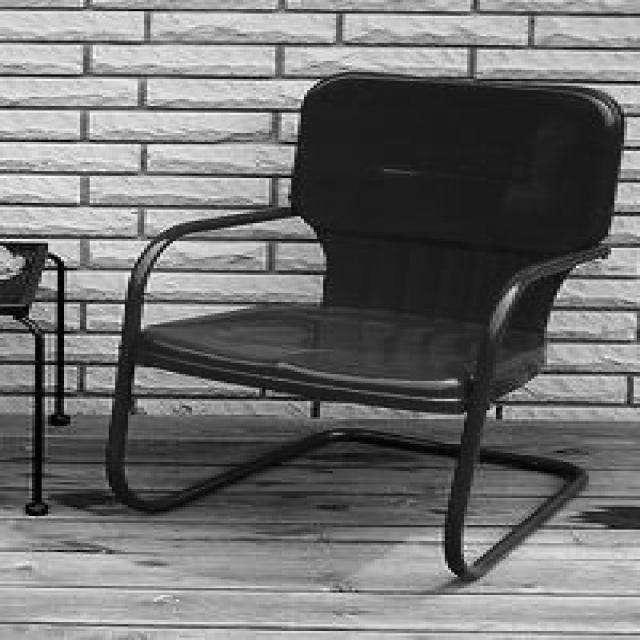chair: (106, 59, 624, 578)
